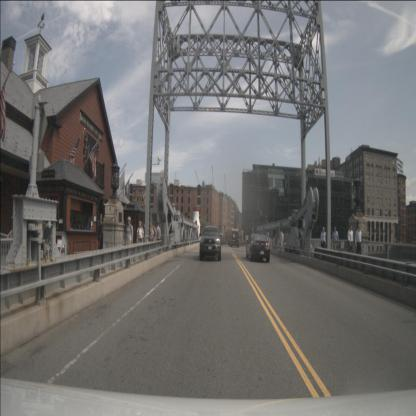human-pedestrian-adult: (124, 216, 134, 260), (355, 224, 362, 264), (347, 224, 354, 263), (137, 220, 144, 258), (146, 222, 154, 252), (332, 226, 339, 260), (155, 222, 161, 250), (321, 226, 326, 257), (151, 224, 157, 249)
vehicle-car: (200, 226, 222, 261), (246, 234, 270, 262), (230, 230, 240, 247)
